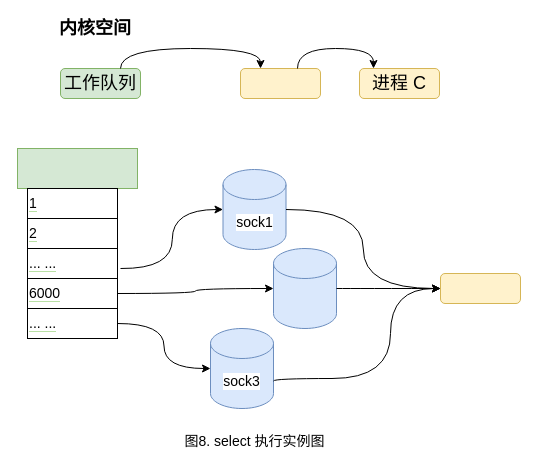
The diagram is 538 pixels wide and 473 high, and some of its shapes have lost their labels. Each missing label, with the box of its shape:
sock2: (272, 248, 336, 328)
文件列表(fd): (16, 148, 138, 188)
进程 A: (440, 272, 520, 304)
进程 B: (240, 68, 320, 98)
